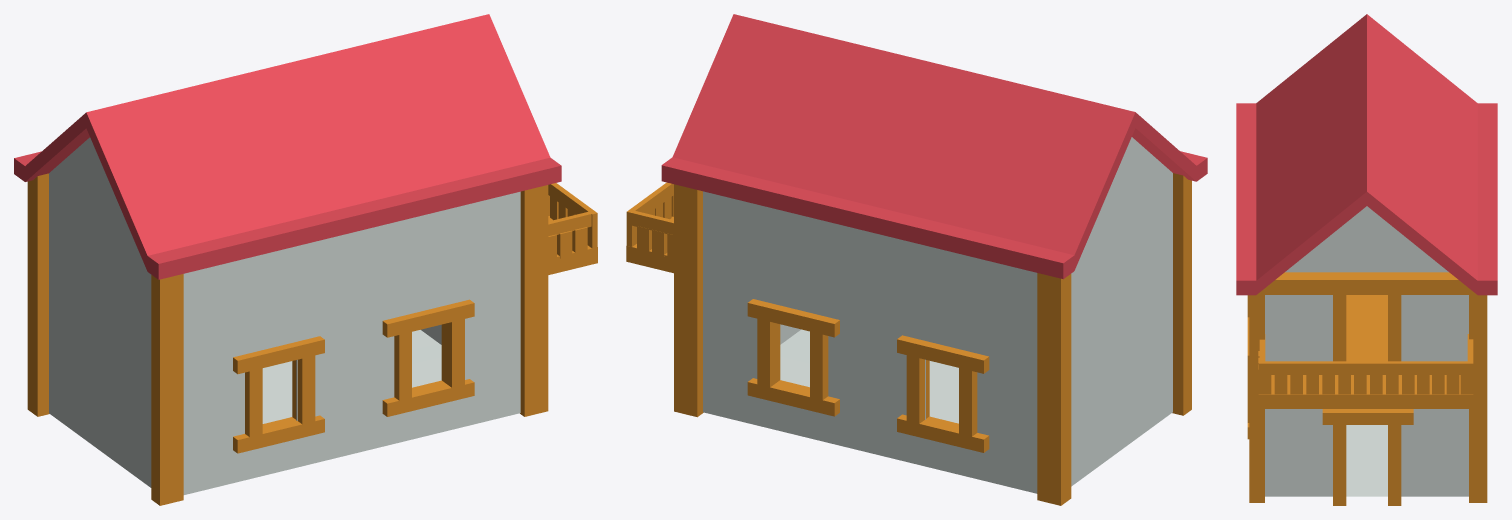
The model's file is BuildingTest2-merged.fbx.
3 renders of one model, left to right at view 1: azimuth 30°, elevation 25°; view 2: azimuth 150°, elevation 25°; view 3: azimuth 270°, elevation 25°, orthographic. The views are drawn at different scales.
Parts seen in each view (by area): view 1: House; view 2: House; view 3: House.
Boxes of the visible parts, bbox=[...] form: House: bbox=[14, 14, 597, 505]; House: bbox=[626, 14, 1207, 505]; House: bbox=[1236, 14, 1497, 505].
Size of the model in its own units: 1184 by 872 by 656.
